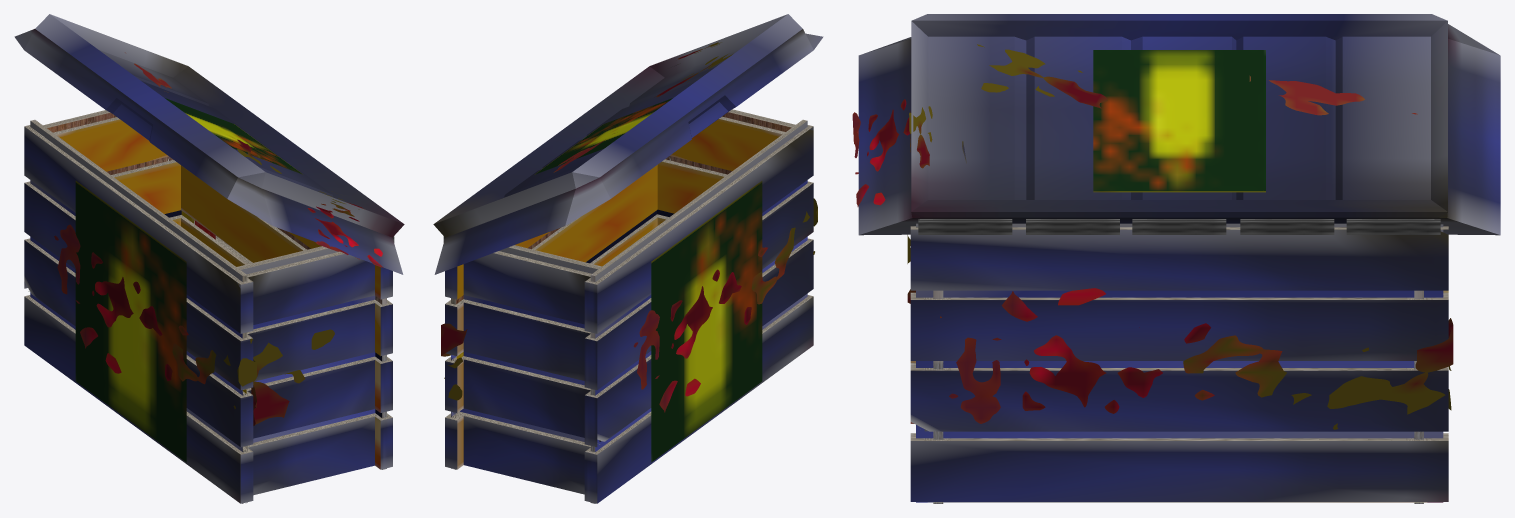
Rendered from ammo crate opened.obj.
3 renders of one model, left to right at view 1: azimuth 30°, elevation 25°; view 2: azimuth 150°, elevation 25°; view 3: azimuth 270°, elevation 25°, orthographic. The views are drawn at different scales.
Visible parts, largest first — view 1: Cube.020, cross_1_Plane.003, Cube.006, Cube.005, Cube.015, Plane.001, Cube.018, Cube.008, Cube.017, Cube.002, Cube.016, Cube.007 (+11 smaller); view 2: Cube.020, cross_1_Plane.003, Cube.006, Cube.005, Cube.011, Cube.010, Cube.012, Cube.013, Cube.008, Cube.007, Cube.002, Plane.001 (+11 smaller); view 3: Cube.020, Cube, Cube.002, Cube.003, Cube.001, cross_2_Plane, Plane.002, Cube.004, Plane.006, Plane.005, Plane.004, Cube.022 (+4 smaller).
Part boxes in pixels (left/top/right/bottom): Cube.020: left=14, top=14, right=404, bottom=274; cross_1_Plane.003: left=75, top=181, right=186, bottom=462; Cube.006: left=24, top=125, right=253, bottom=333; Cube.005: left=24, top=295, right=253, bottom=503; Cube.015: left=228, top=413, right=377, bottom=495; Plane.001: left=54, top=224, right=334, bottom=425; Cube.018: left=227, top=251, right=374, bottom=324; Cube.008: left=24, top=238, right=253, bottom=447; Cube.017: left=227, top=300, right=374, bottom=381; Cube.002: left=181, top=165, right=392, bottom=356; Cube.016: left=227, top=356, right=377, bottom=438; Cube.007: left=24, top=181, right=253, bottom=390; Cube.020: left=433, top=14, right=823, bottom=274; cross_1_Plane.003: left=651, top=181, right=762, bottom=462; Cube.006: left=584, top=125, right=813, bottom=333; Cube.005: left=584, top=295, right=813, bottom=503; Cube.011: left=456, top=356, right=610, bottom=441; Cube.010: left=456, top=411, right=601, bottom=494; Cube.012: left=460, top=299, right=610, bottom=380; Cube.013: left=463, top=251, right=610, bottom=324; Cube.008: left=584, top=238, right=813, bottom=447; Cube.007: left=584, top=181, right=813, bottom=390; Cube.002: left=445, top=165, right=657, bottom=356; Plane.001: left=633, top=198, right=817, bottom=412; Cube.020: left=858, top=14, right=1500, bottom=235; Cube: left=910, top=433, right=1448, bottom=501; Cube.002: left=910, top=292, right=1448, bottom=360; Cube.003: left=910, top=226, right=1448, bottom=290; Cube.001: left=910, top=363, right=1448, bottom=431; cross_2_Plane: left=1093, top=50, right=1265, bottom=192; Plane.002: left=940, top=288, right=1453, bottom=429; Cube.004: left=916, top=223, right=1443, bottom=502; Plane.006: left=852, top=99, right=966, bottom=206; Plane.005: left=977, top=44, right=1107, bottom=108; Plane.004: left=1249, top=75, right=1417, bottom=115; Cube.022: left=1240, top=219, right=1334, bottom=234.
Bounding box in the file's own units: 0.9292 × 1.7 × 2.46.
1 material, 1 textured.
